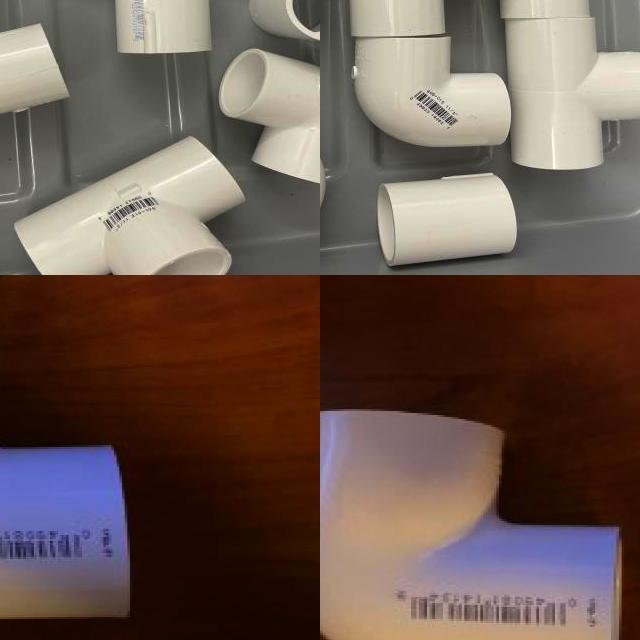L Joint: (320, 410, 624, 640), (0, 445, 130, 623), (352, 37, 512, 150), (351, 0, 468, 38)
T Joint: (504, 14, 640, 174)
